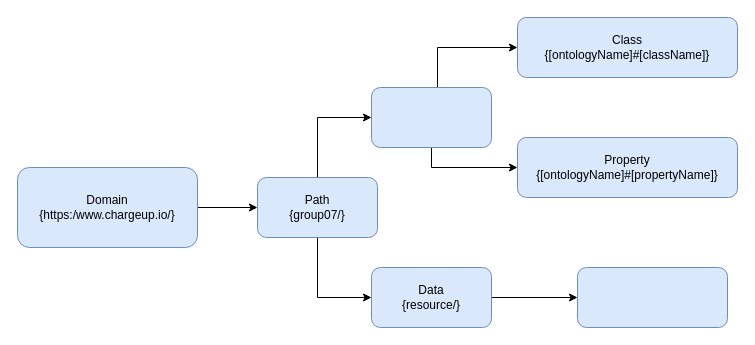
Image size: 755x345. Some labels were removed from this diagram. Here are the shapes that lost their labels. From the top down, the centre of each, then its label:
At [431,117]: "Ontology {ontology/}".
At [652,297]: "Individual {[className]/[identifier]}".
